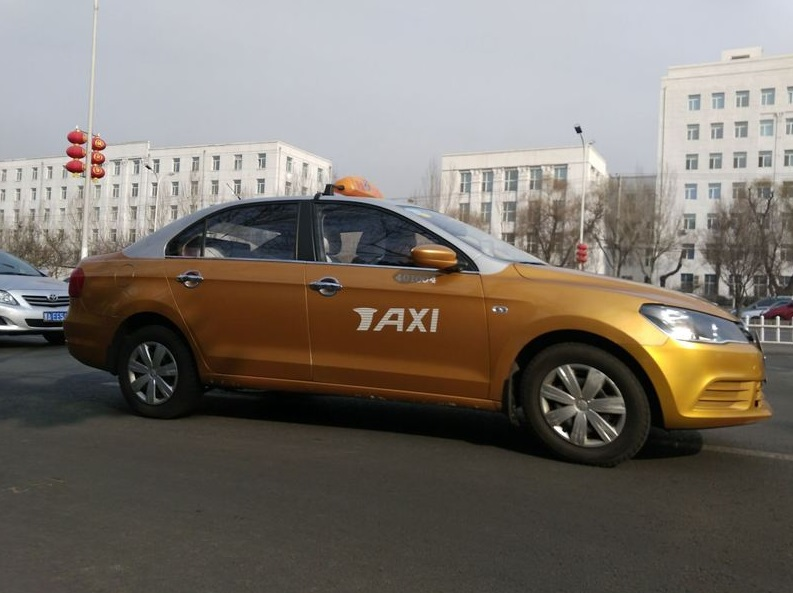taxi: (62, 173, 776, 466)
